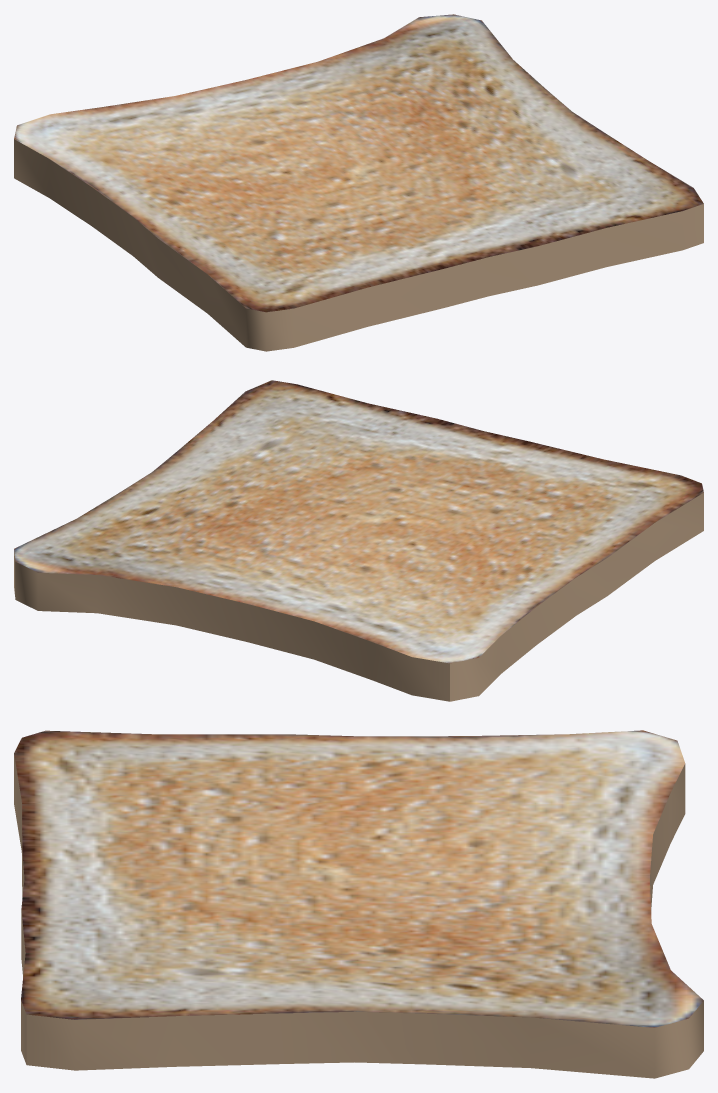
The model's file is bread.glb.
3 views of the same model, one above another, from view 1: azimuth 30°, elevation 25°; view 2: azimuth 150°, elevation 25°; view 3: azimuth 270°, elevation 25° (orthographic). The views are drawn at different scales.
Visible parts, largest first — view 1: Object_3, Object_2; view 2: Object_3, Object_2; view 3: Object_3, Object_2.
Part boxes in pixels (x1,y1,x2,y2): Object_3: (14,14,703,312); Object_2: (14,139,703,351); Object_3: (14,380,703,663); Object_2: (14,493,703,701); Object_3: (14,730,703,1027); Object_2: (14,754,703,1078).
Bounding box in the file's own units: 10.07 × 0.8 × 9.87.
2 materials, 1 textured.
